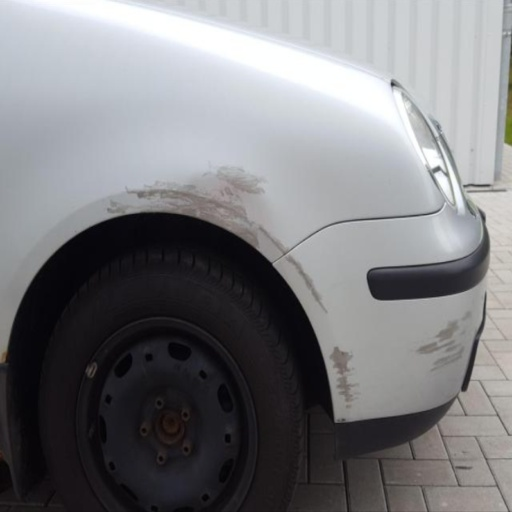rust: (1, 349, 8, 363)
scratch: (107, 180, 259, 251), (257, 223, 329, 314), (204, 160, 269, 194), (329, 347, 361, 409), (431, 312, 472, 342), (416, 339, 456, 354), (432, 347, 465, 365), (430, 355, 463, 373), (443, 342, 462, 354), (336, 417, 346, 423), (458, 331, 465, 336)
